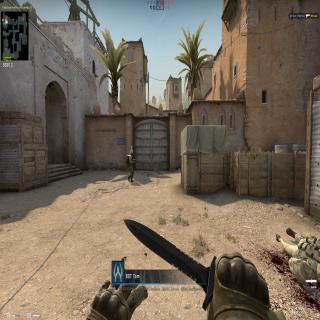CT-Head: (130, 149, 134, 156)
